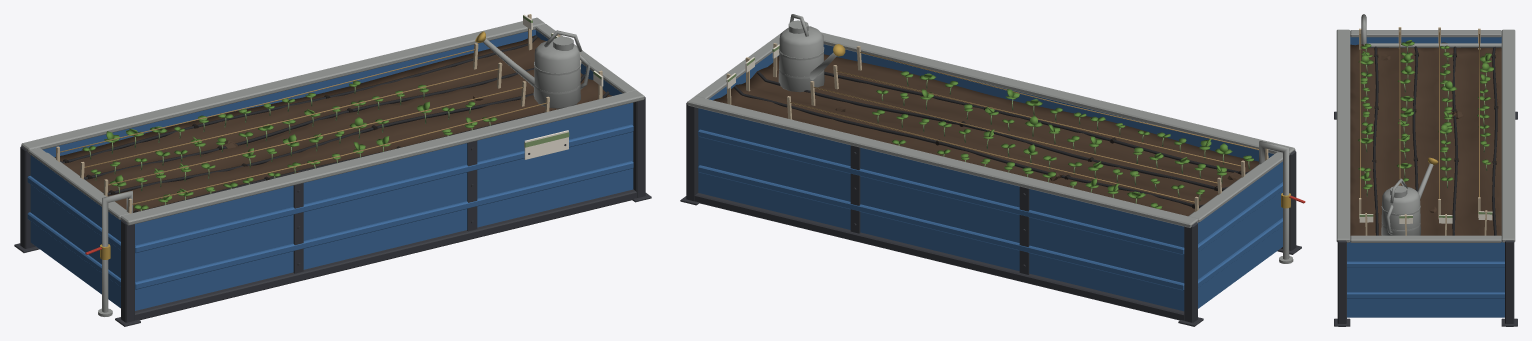
File: deco_farm_bed_seedlings.fbx
The picture shows the model from 3 angles, left to right: view 1: azimuth 30°, elevation 25°; view 2: azimuth 150°, elevation 25°; view 3: azimuth 270°, elevation 25°; orthographic projection. The views are drawn at different scales.
Parts seen in each view (by area): view 1: FarmBed_Seedlings_Frame, FarmBed_Seedlings_Soil, FarmBed_Seedlings_Irrigation, FarmBed_Seedlings_Sprouts, FarmBed_Seedlings_WateringCan, FarmBed_Seedlings_RowLines, FarmBed_Seedlings_Tags; view 2: FarmBed_Seedlings_Frame, FarmBed_Seedlings_Soil, FarmBed_Seedlings_Irrigation, FarmBed_Seedlings_Sprouts, FarmBed_Seedlings_RowLines, FarmBed_Seedlings_WateringCan, FarmBed_Seedlings_Tags; view 3: FarmBed_Seedlings_Frame, FarmBed_Seedlings_Soil, FarmBed_Seedlings_Sprouts, FarmBed_Seedlings_Irrigation, FarmBed_Seedlings_WateringCan, FarmBed_Seedlings_RowLines, FarmBed_Seedlings_Tags.
Part boxes in pixels (box(x1,y1,x2,y2)): FarmBed_Seedlings_Frame: box(14, 17, 651, 326); FarmBed_Seedlings_Soil: box(55, 35, 612, 212); FarmBed_Seedlings_Irrigation: box(47, 35, 609, 316); FarmBed_Seedlings_Sprouts: box(82, 81, 497, 210); FarmBed_Seedlings_WateringCan: box(475, 30, 590, 108); FarmBed_Seedlings_RowLines: box(56, 43, 549, 213); FarmBed_Seedlings_Tags: box(523, 14, 603, 159); FarmBed_Seedlings_Frame: box(680, 32, 1301, 326); FarmBed_Seedlings_Soil: box(713, 54, 1259, 216); FarmBed_Seedlings_Irrigation: box(733, 71, 1305, 263); FarmBed_Seedlings_Sprouts: box(872, 71, 1253, 208); FarmBed_Seedlings_RowLines: box(787, 46, 1268, 211); FarmBed_Seedlings_WateringCan: box(778, 14, 845, 92); FarmBed_Seedlings_Tags: box(726, 43, 779, 104); FarmBed_Seedlings_Frame: box(1334, 29, 1517, 326); FarmBed_Seedlings_Soil: box(1350, 42, 1501, 235); FarmBed_Seedlings_Sprouts: box(1358, 40, 1493, 196); FarmBed_Seedlings_Irrigation: box(1361, 14, 1501, 235); FarmBed_Seedlings_WateringCan: box(1381, 157, 1438, 235); FarmBed_Seedlings_RowLines: box(1359, 27, 1480, 219); FarmBed_Seedlings_Tags: box(1359, 210, 1492, 235).
Bounding box in the file's own units: 424 × 114 × 148.
